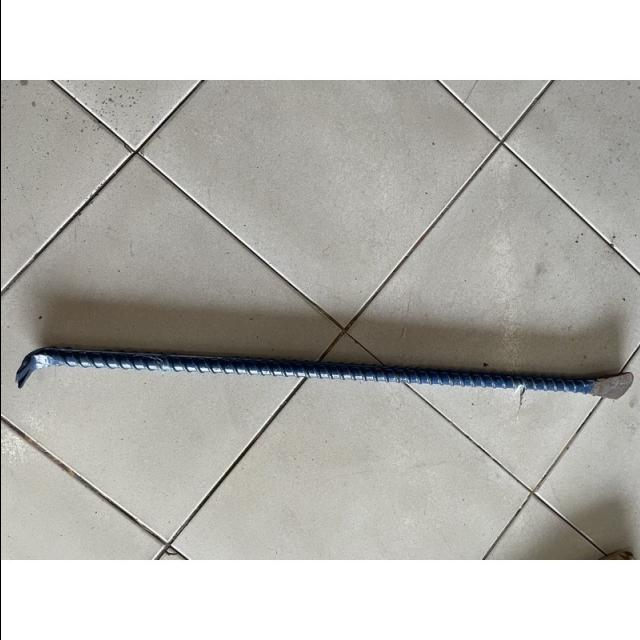Linggis: (16, 346, 634, 401)
